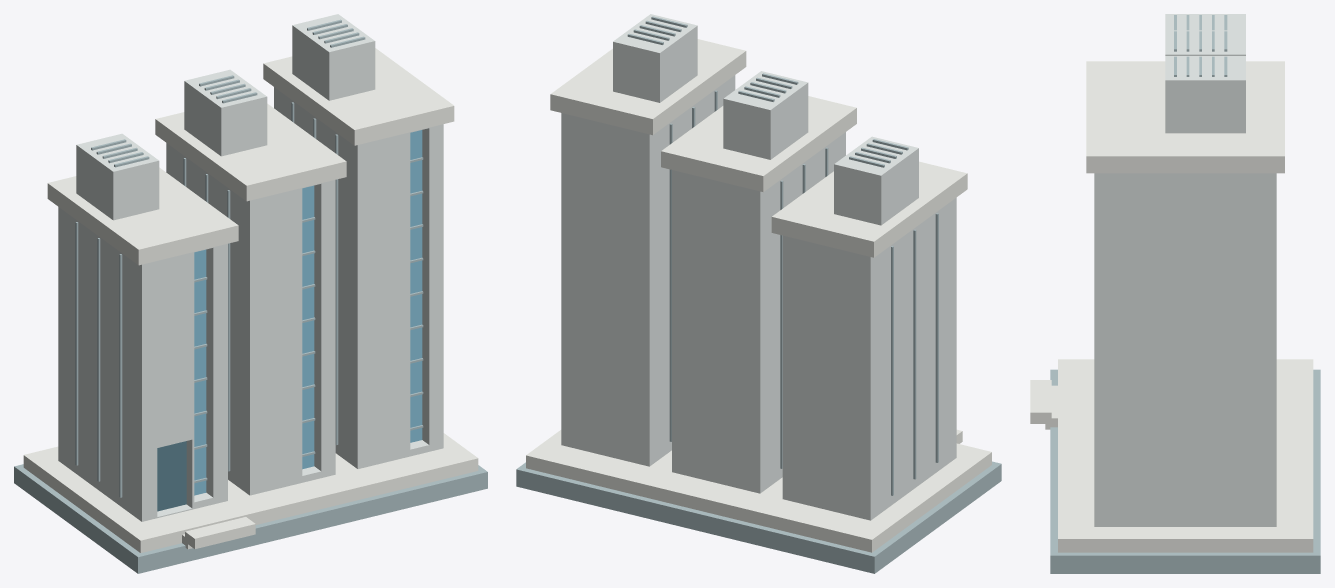
The model's file is 02_three_module_complex.glb.
3 views of the same model, side by side, from view 1: azimuth 30°, elevation 25°; view 2: azimuth 150°, elevation 25°; view 3: azimuth 270°, elevation 25° (orthographic). The views are drawn at different scales.
Visible parts, largest first — view 1: module_body_0, module_body_2, module_body_1, roof_overhang (×3), rooftop_plant (×3), plinth, inset_glass (×3), foundation, window_reveal_geometry (×3), side_vertical_seam (×5), inset_backing, entry_steps; view 2: module_body_0, module_body_2, module_body_1, roof_overhang (×3), rooftop_plant (×3), plinth, foundation, side_vertical_seam (×5); view 3: module_body_2, plinth, roof_overhang (×3), rooftop_plant (×3), foundation, entry_steps.
Boxes of the visible parts, left/top/right/bottom form: module_body_0: left=58, top=207, right=227, bottom=521; module_body_2: left=274, top=87, right=443, bottom=468; module_body_1: left=166, top=143, right=335, bottom=495; roof_overhang (×3): left=47, top=48, right=454, bottom=265; rooftop_plant (×3): left=76, top=14, right=375, bottom=220; plinth: left=23, top=433, right=478, bottom=552; inset_glass (×3): left=194, top=130, right=422, bottom=495; foundation: left=14, top=464, right=487, bottom=573; window_reveal_geometry (×3): left=206, top=128, right=429, bottom=497; side_vertical_seam (×5): left=75, top=134, right=338, bottom=497; inset_backing: left=157, top=441, right=186, bottom=511; entry_steps: left=185, top=517, right=255, bottom=548; module_body_0: left=782, top=197, right=956, bottom=520; module_body_2: left=561, top=75, right=735, bottom=466; module_body_1: left=672, top=132, right=845, bottom=493; roof_overhang (×3): left=550, top=39, right=967, bottom=257; rooftop_plant (×3): left=613, top=14, right=918, bottom=225; plinth: left=526, top=430, right=991, bottom=552; foundation: left=516, top=461, right=1001, bottom=573; side_vertical_seam (×5): left=669, top=123, right=938, bottom=495; module_body_2: left=1094, top=173, right=1276, bottom=526; plinth: left=1058, top=359, right=1313, bottom=552; roof_overhang (×3): left=1086, top=61, right=1284, bottom=173; rooftop_plant (×3): left=1165, top=14, right=1245, bottom=133; foundation: left=1050, top=369, right=1320, bottom=573; entry_steps: left=1030, top=380, right=1051, bottom=423.
Size of the model in its own units: 3.5 by 4.07 by 2.31.
